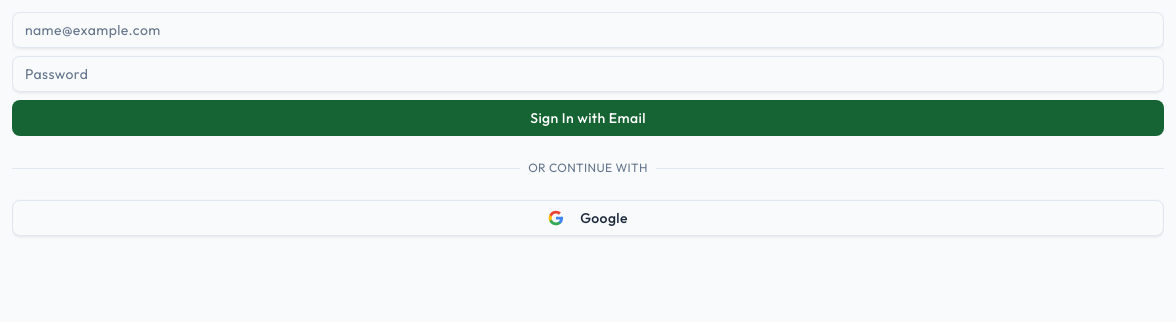
it: UserAuthForm › Login Form › should show error for empty fields
Click the button "Sign In with Email" at (588, 118), box x1=12 y1=100 x2=1164 y2=136
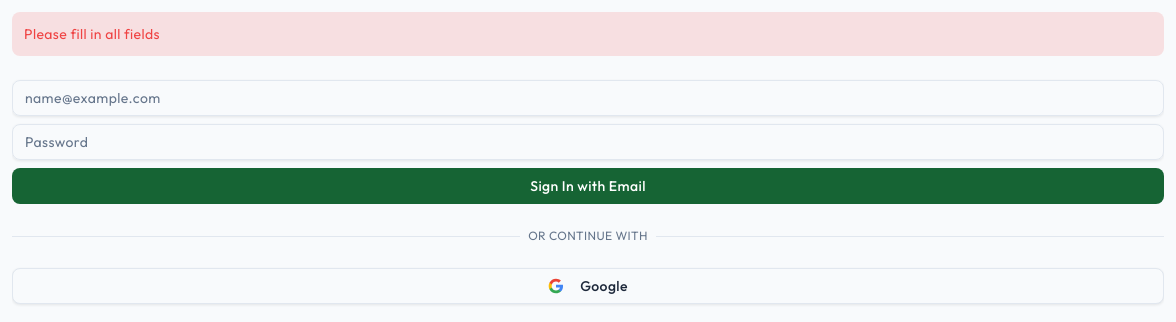
Expected: the text "Please fill in all fields" is shown, x1=24 y1=25 x2=160 y2=43
